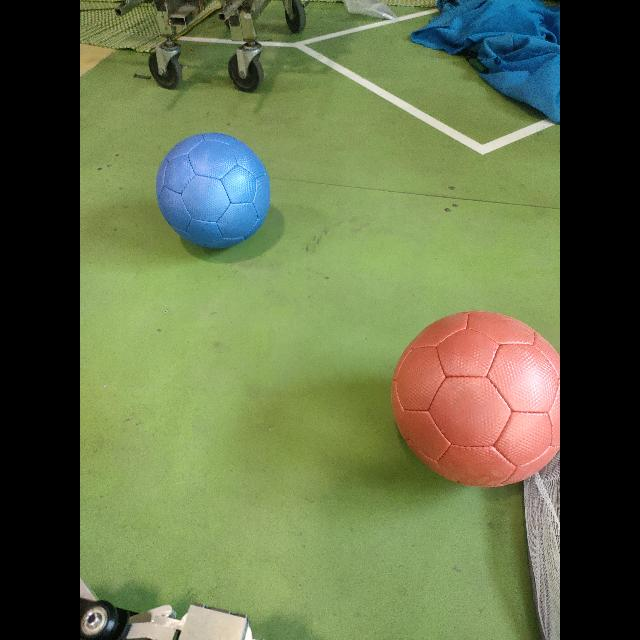B: (155, 132, 272, 254)
R: (390, 311, 560, 490)
